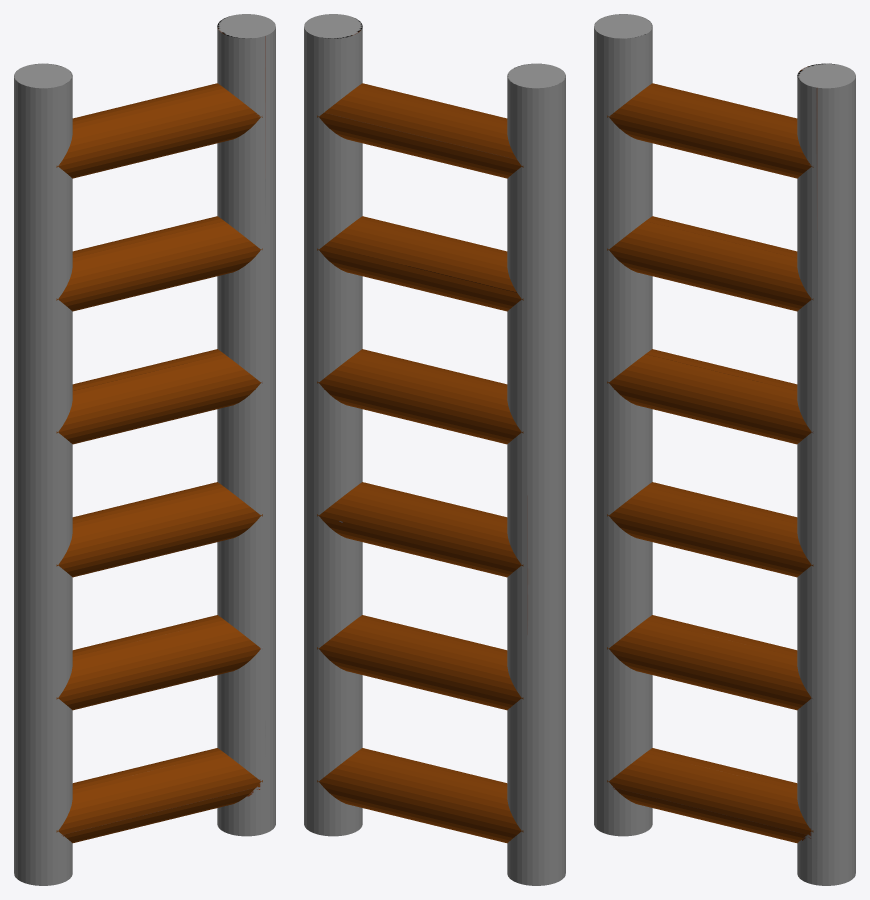
The model's file is ladder.glb.
3 renders of one model, left to right at view 1: azimuth 30°, elevation 25°; view 2: azimuth 150°, elevation 25°; view 3: azimuth 330°, elevation 25°, orthographic.
Parts seen in each view (by area): view 1: Cylinder.003; view 2: Cylinder.003; view 3: Cylinder.003.
Boxes of the visible parts, <box> form: Cylinder.003: <box>14,14,275,885</box>; Cylinder.003: <box>304,14,565,885</box>; Cylinder.003: <box>594,14,855,885</box>.
Bounding box in the file's own units: 0.5 × 1.5 × 0.1.
Materials: 1 (1 with a texture image).
